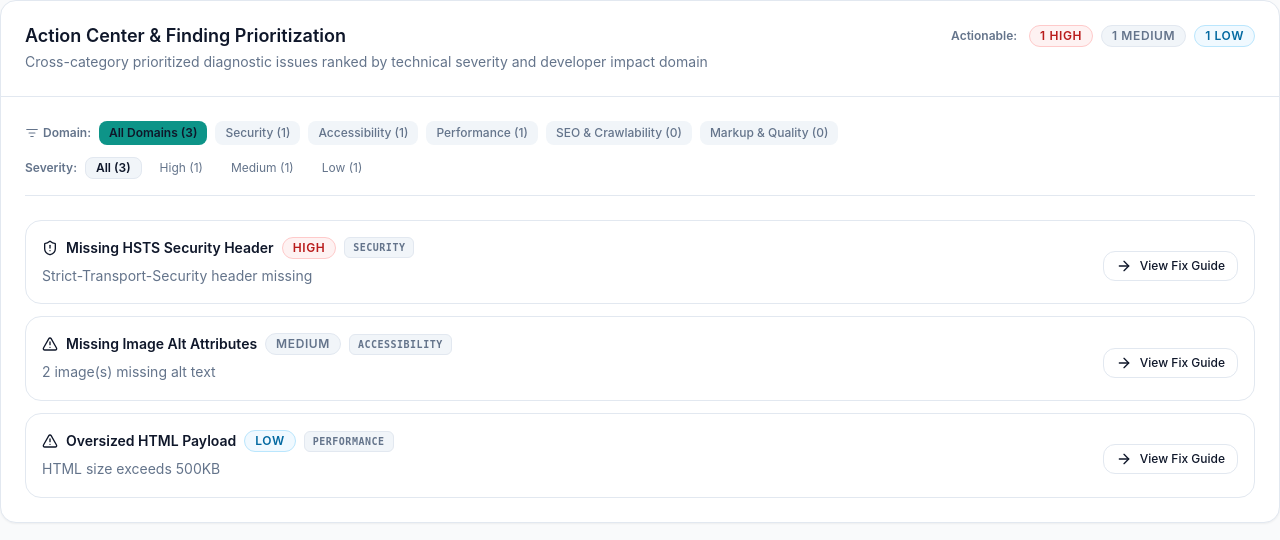
Test case: ActionCenterCard Component Suite (M8) › filters items by severity tabs
The image size is (1280, 540).
# Click High severity tab
Step 1. Click the button "high (1)" → (181, 168), box [150,158,213,178]
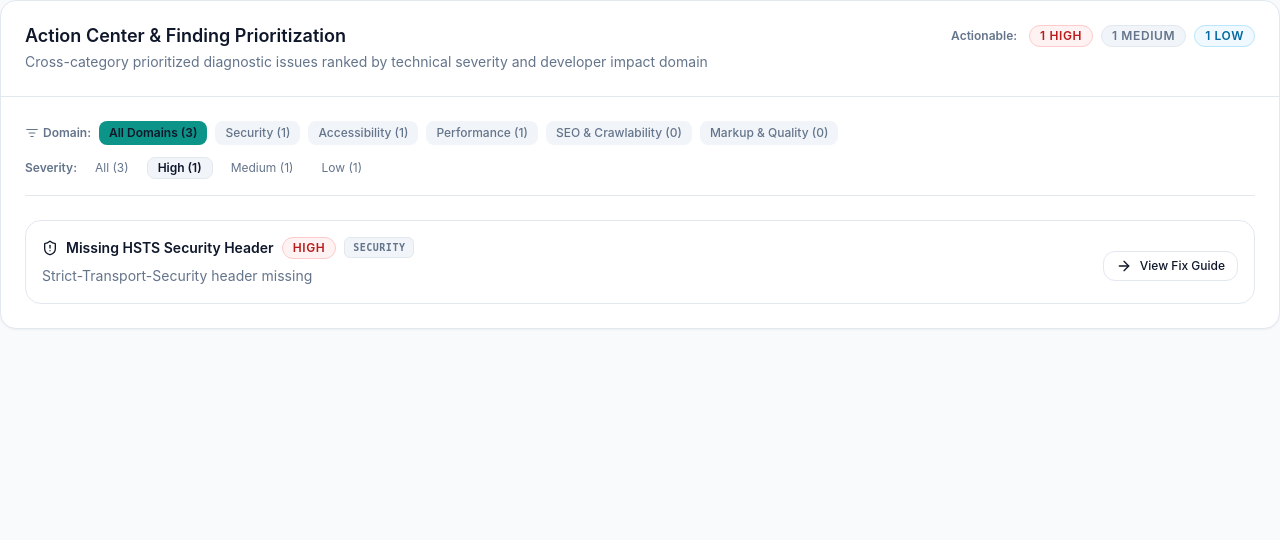
Expected: the heading "Missing HSTS Security Header" is shown, [66,238,274,258]
Expected: the heading "Missing Image Alt Attributes" is gone
# Click Medium severity tab
Step 2. Click the button "medium (1)" → (262, 168), box [221,158,304,178]
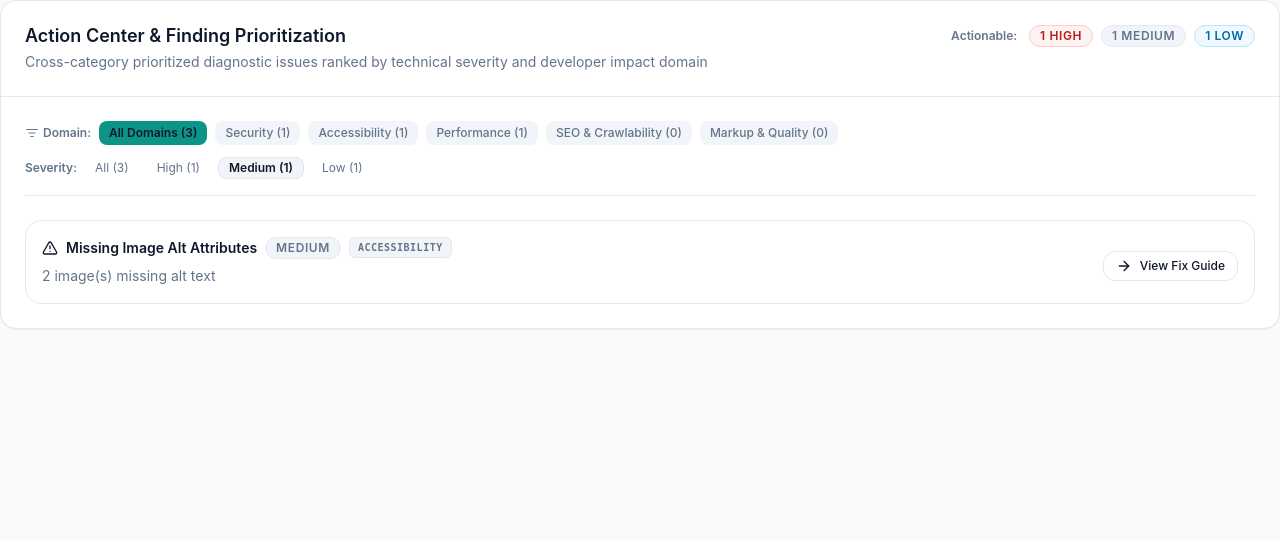
Expected: the heading "Missing Image Alt Attributes" is shown, [66,238,257,258]
Expected: the heading "Missing HSTS Security Header" is gone
